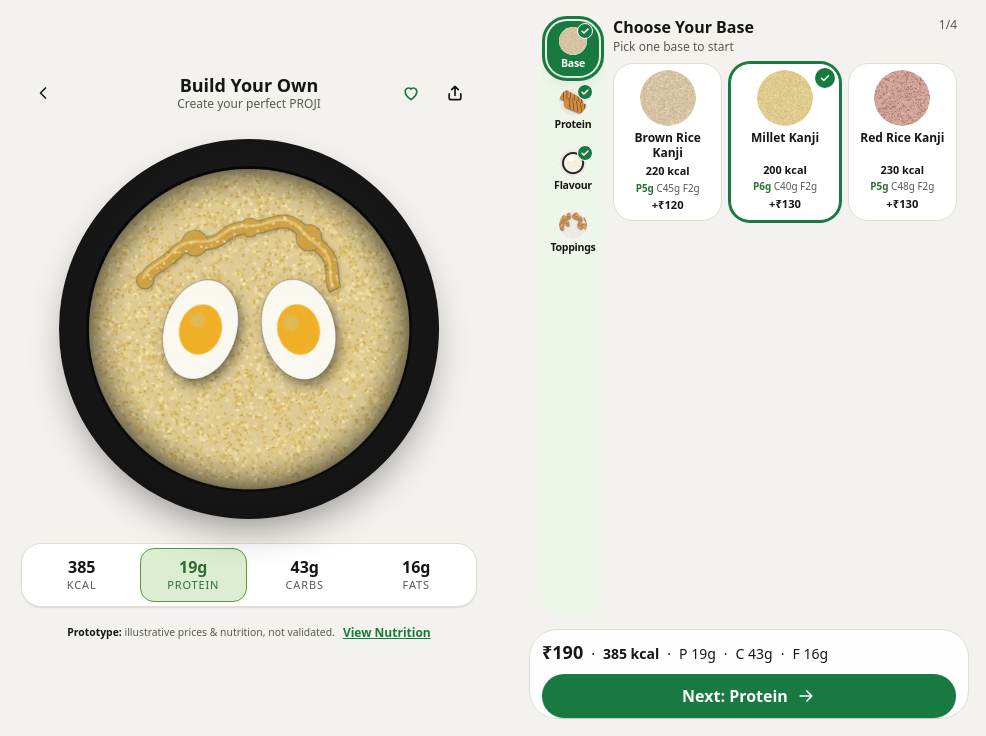
Scenario: CustomizePage › P-03 tabs: arrow keys, completed checks, back preserves
Press Arrowright
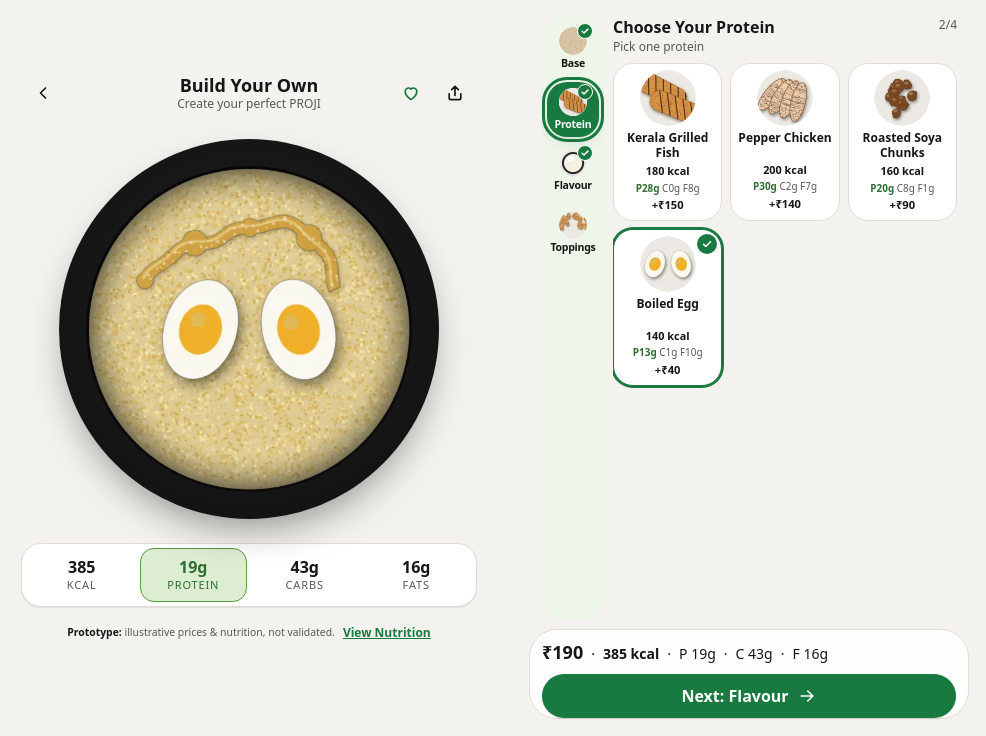
Result: the radio button labelled "Boiled Egg 140 kcal P13g C1g F10g +₹40" is checked at x1=613 y1=229 x2=722 y2=386
Press End
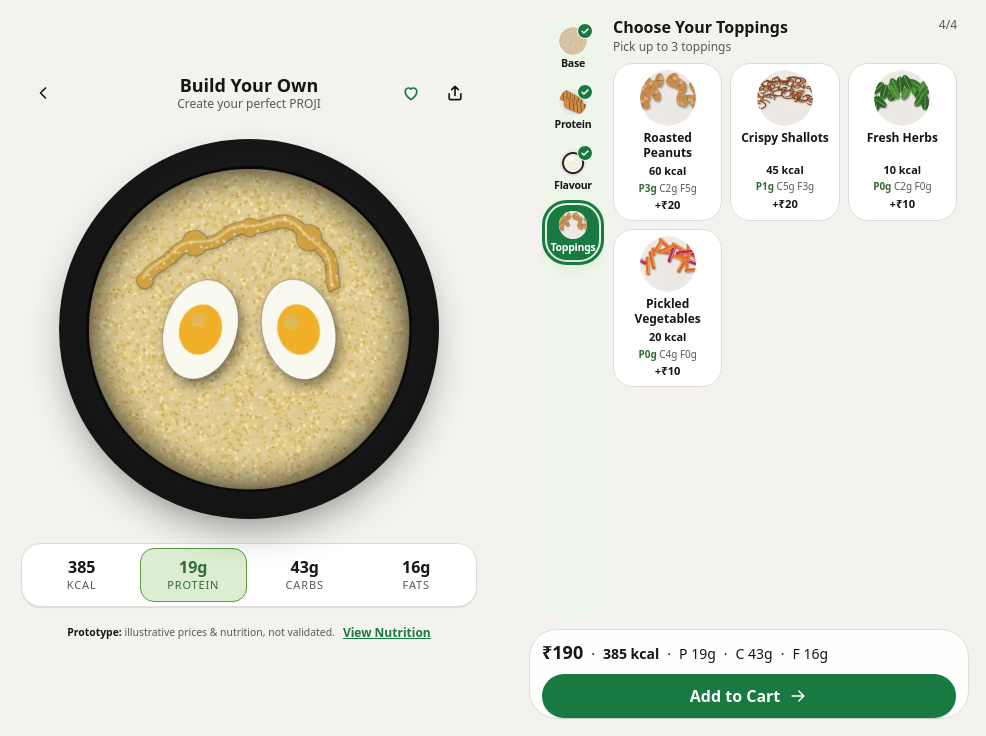
Result: the tab "Toppings" is selected at x1=547 y1=205 x2=599 y2=260
Click the button named "Back" at (43, 93), box x1=21 y1=71 x2=65 y2=115
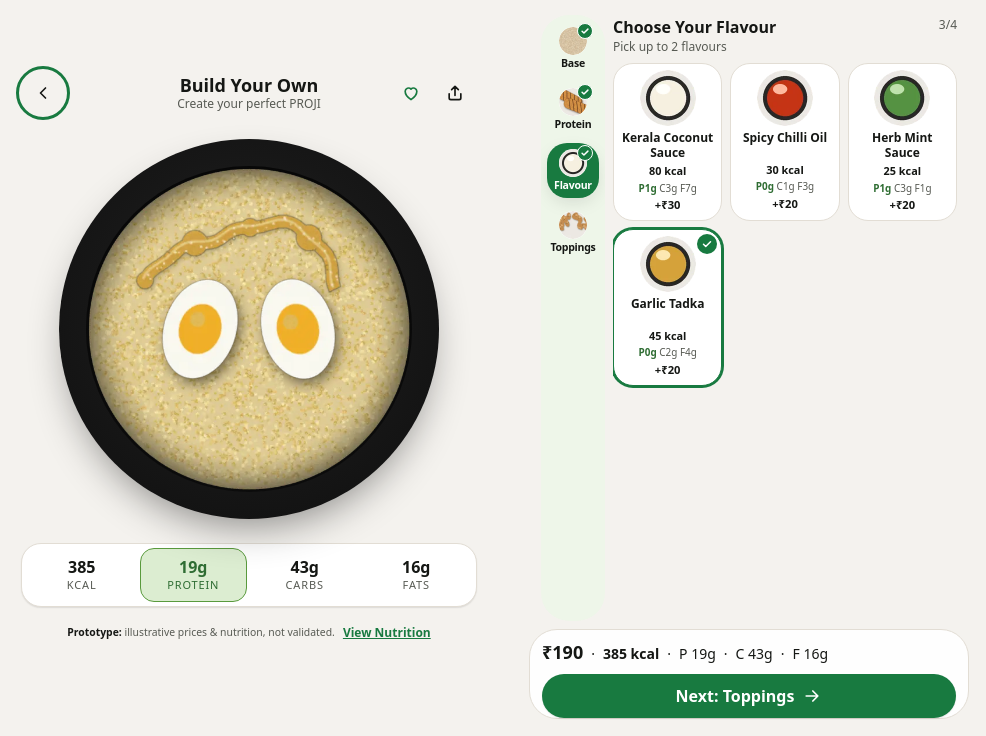
Click the button named "Back" at (43, 93), box x1=21 y1=71 x2=65 y2=115
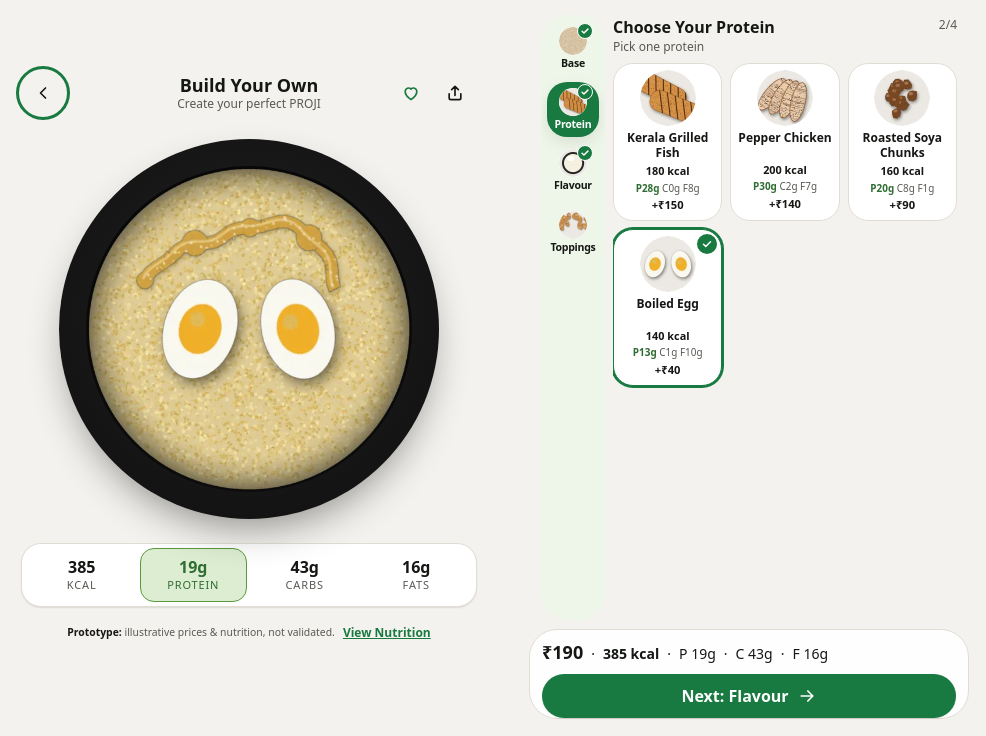
Click the button named "Back" at (43, 93), box x1=21 y1=71 x2=65 y2=115
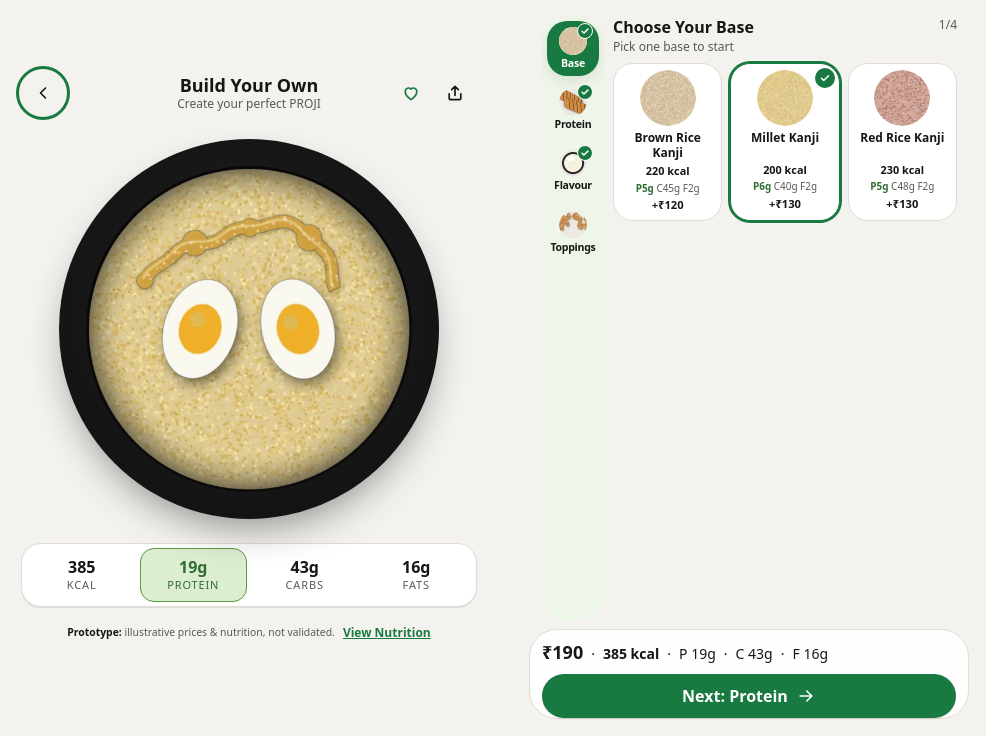
Result: the radio button labelled "Millet Kanji 200 kcal P6g C40g F2g +₹130" is checked at x1=730 y1=63 x2=840 y2=221
Click the tab "Flavour" at (573, 171), box x1=547 y1=143 x2=599 y2=199
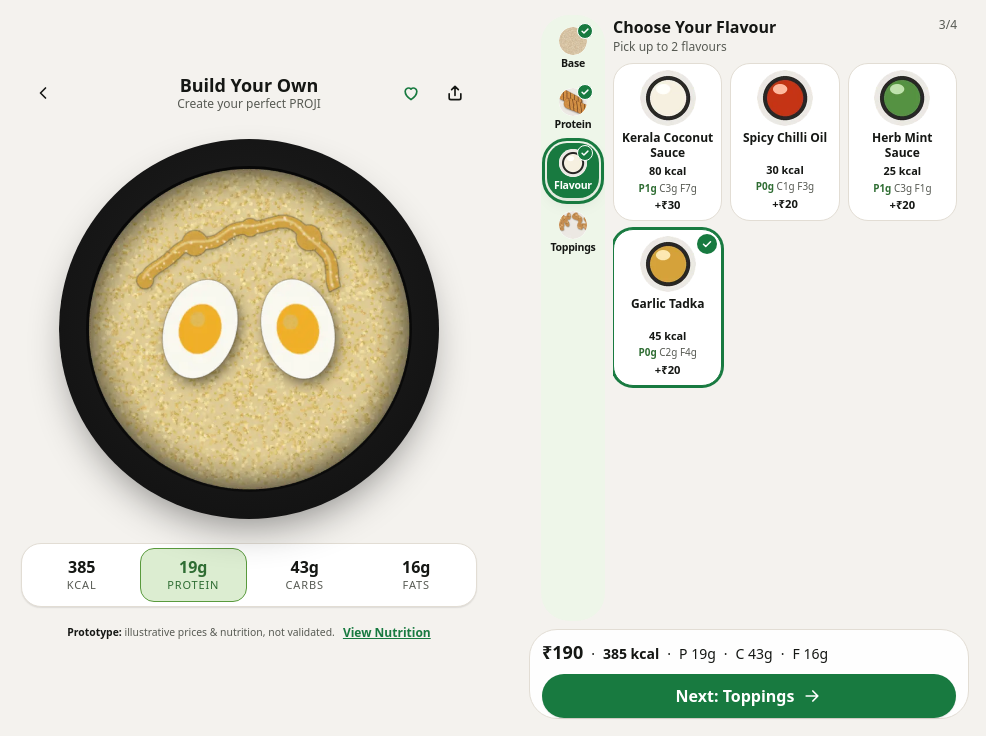
Result: the checkbox labelled "Garlic Tadka 45 kcal P0g C2g F4g +₹20" is checked at x1=613 y1=229 x2=722 y2=386
